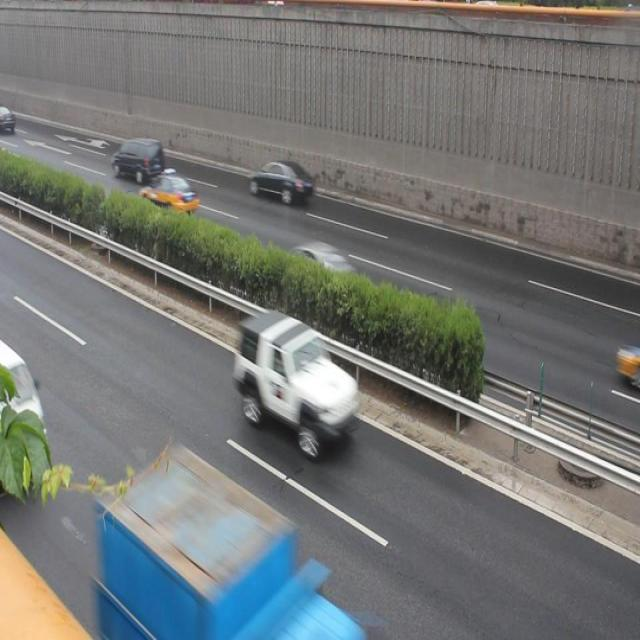bus: (97, 450, 354, 640)
car: (234, 308, 353, 442), (268, 240, 359, 313), (249, 159, 314, 207), (138, 172, 198, 220), (611, 337, 640, 387)
truck: (1, 340, 50, 494), (112, 137, 163, 184)
